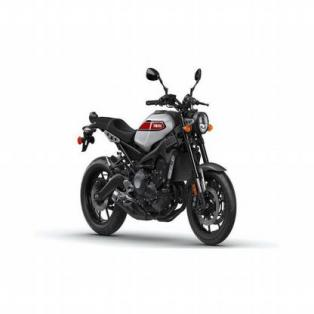Motocicleta: (67, 49, 242, 261)
